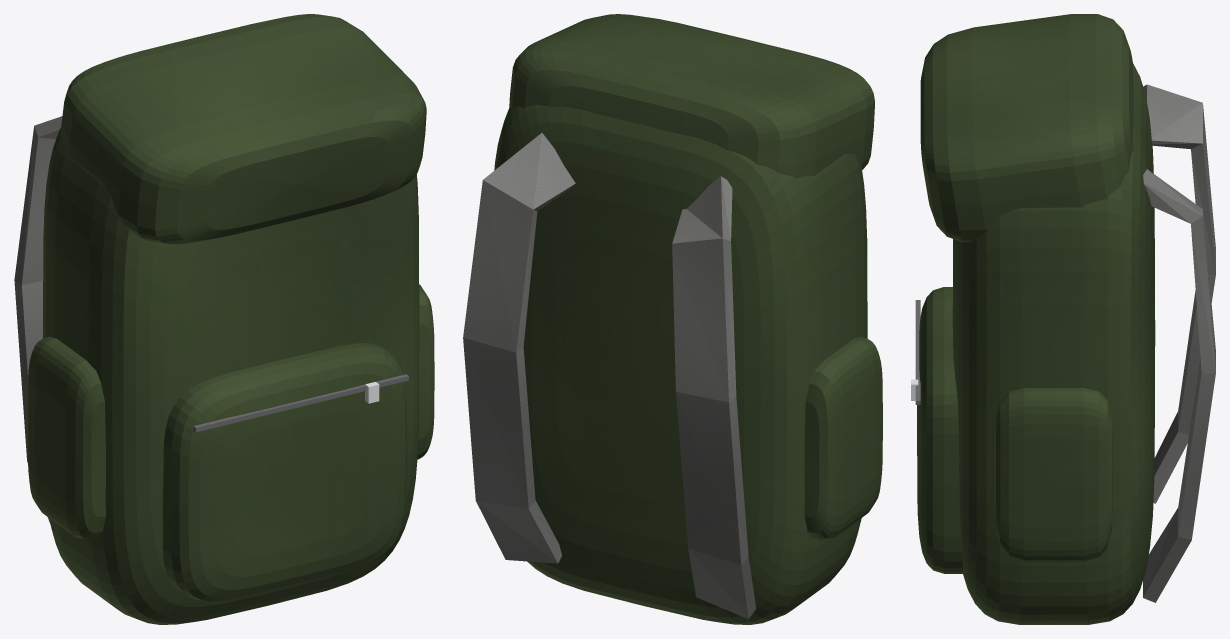
Rendered from mochila.glb.
3 renders of one model, left to right at view 1: azimuth 30°, elevation 25°; view 2: azimuth 150°, elevation 25°; view 3: azimuth 270°, elevation 25°, orthographic. The views are drawn at different scales.
Parts seen in each view (by area): view 1: mochila_tecido_mochila, mochila_tecido_cinza, mochila_plastico_preto; view 2: mochila_tecido_mochila, mochila_tecido_cinza; view 3: mochila_tecido_mochila, mochila_tecido_cinza, mochila_plastico_preto.
Part boxes in pixels (<box>): mochila_tecido_mochila: <box>27,14,434,624</box>; mochila_tecido_cinza: <box>14,116,62,523</box>; mochila_plastico_preto: <box>193,374,408,432</box>; mochila_tecido_mochila: <box>494,14,882,624</box>; mochila_tecido_cinza: <box>463,133,756,618</box>; mochila_tecido_mochila: <box>917,14,1155,624</box>; mochila_tecido_cinza: <box>1143,84,1215,602</box>; mochila_plastico_preto: <box>915,300,920,404</box>.
Bounding box in the file's own units: 0.3396 × 0.4768 × 0.256.
Materials: 4 (2 with a texture image).
